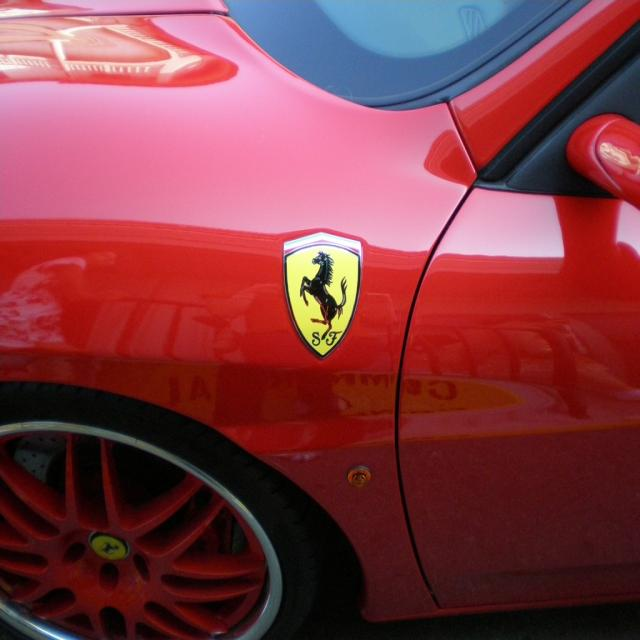ferrari: (284, 231, 366, 360)
